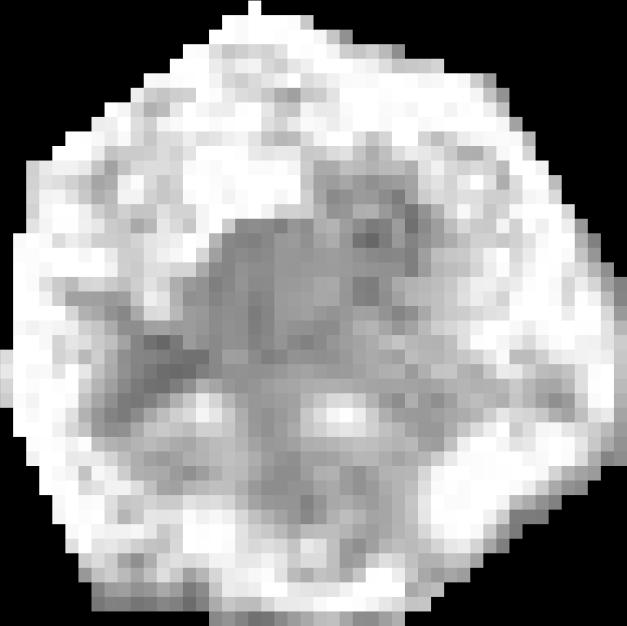tumor_good_chance: (0, 1, 627, 626)
